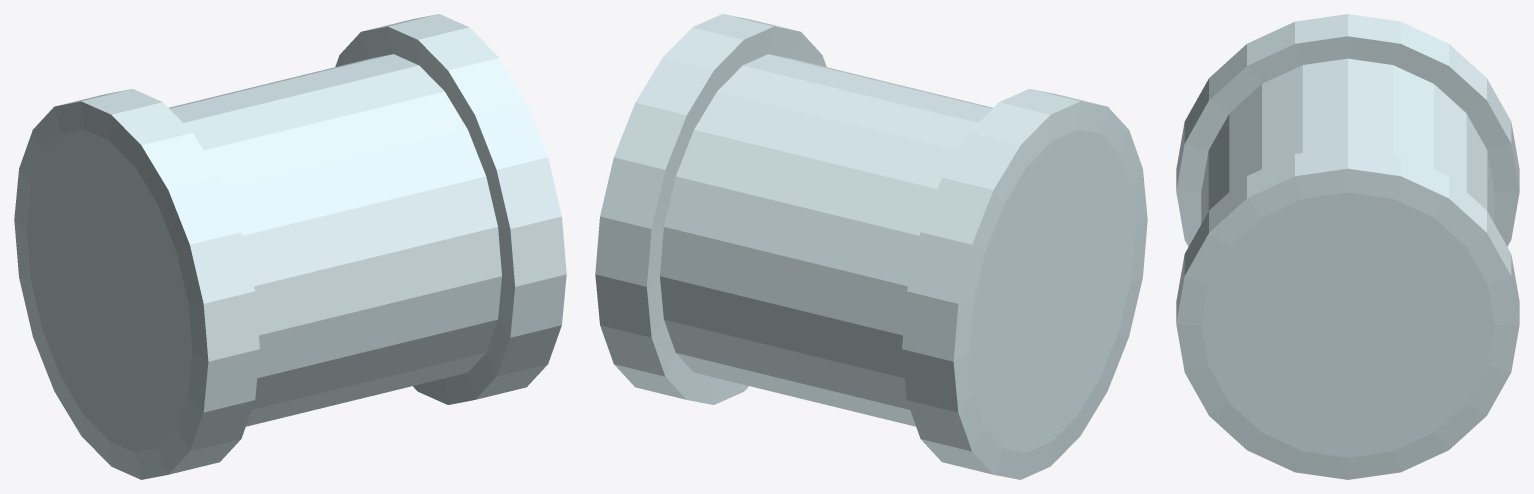
Rendered from düzeklemboru.fbx.
3 views of the same model, side by side, from view 1: azimuth 30°, elevation 25°; view 2: azimuth 150°, elevation 25°; view 3: azimuth 270°, elevation 25° (orthographic). The views are drawn at different scales.
Visible parts, largest first — view 1: Cylinder.003; view 2: Cylinder.003; view 3: Cylinder.003.
Part boxes in pixels (x1,y1,x2,y2): Cylinder.003: [14, 14, 566, 479]; Cylinder.003: [595, 14, 1147, 479]; Cylinder.003: [1176, 14, 1519, 479].
Size of the model in its own units: 315 by 293 by 293.
